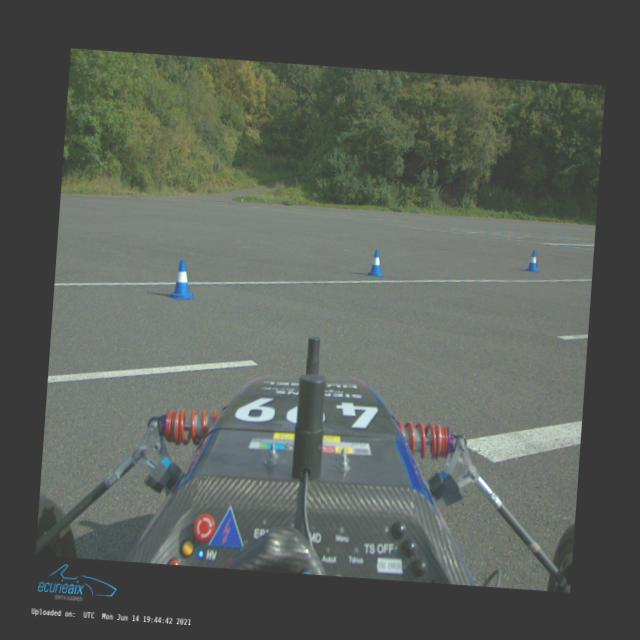blue_cone: (167, 259, 197, 300), (366, 249, 386, 278), (525, 250, 540, 272)
